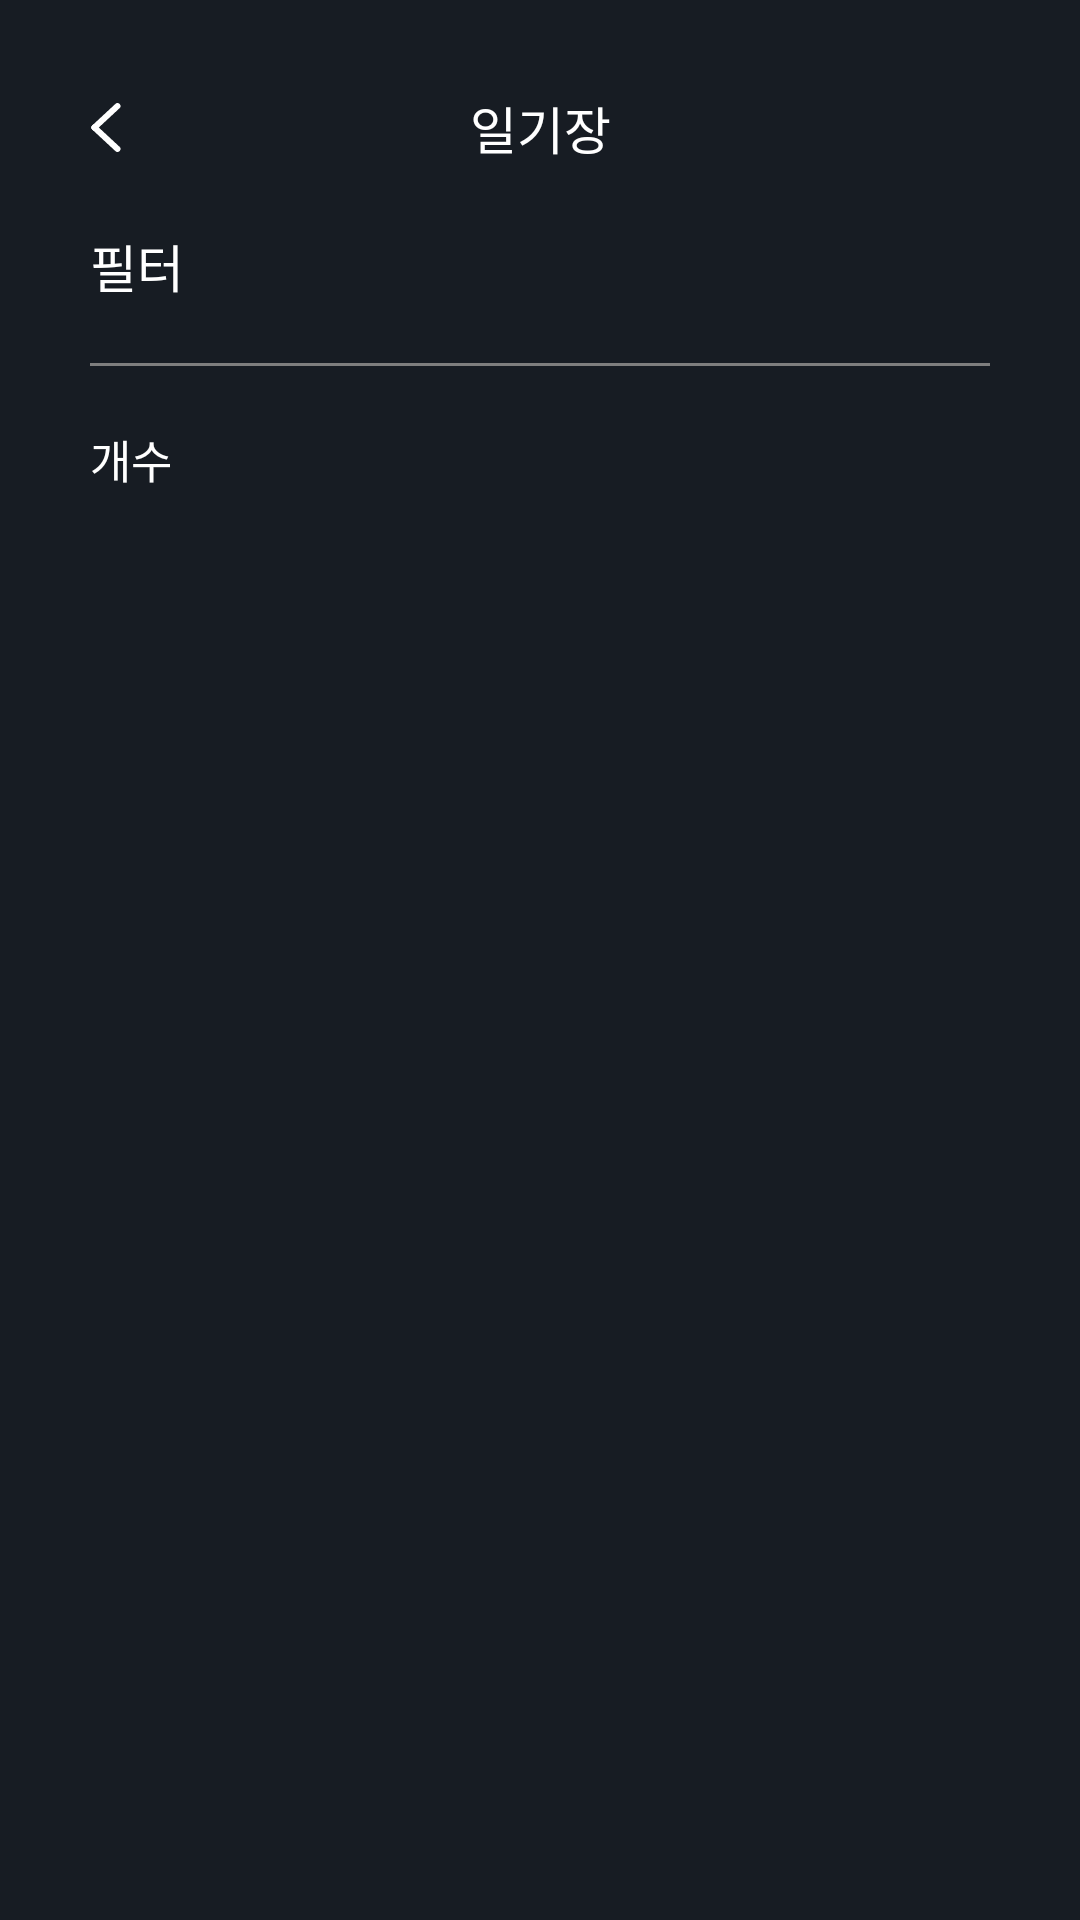

Icons on this 1080×1920 Android screen, each with the point to tap as (x,y):
back: (106,127)
